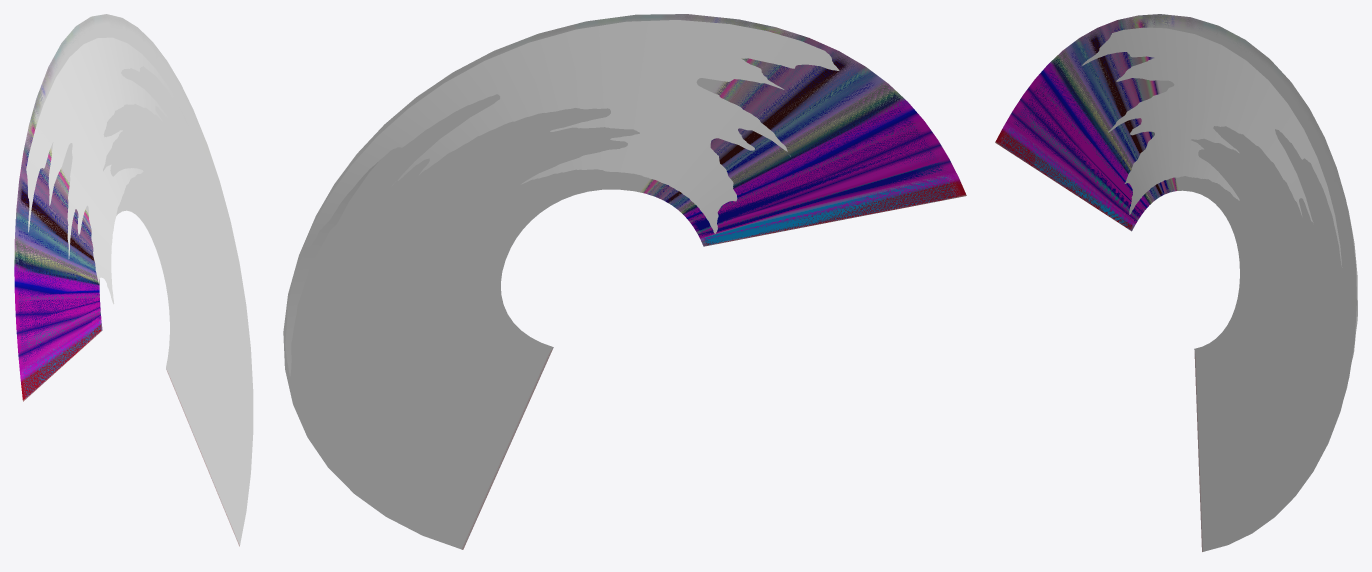
File: fx_cookie0134_front_skill001.fbx
3 views of the same model, side by side, from view 1: azimuth 30°, elevation 25°; view 2: azimuth 150°, elevation 25°; view 3: azimuth 270°, elevation 25° (orthographic). The views are drawn at different scales.
Parts seen in each view (by area): view 1: L_scratch, L_scratch2; view 2: L_scratch, L_scratch2; view 3: L_scratch, L_scratch2.
Part boxes in pixels (left/top/right/bottom): L_scratch: left=14, top=14, right=253, bottom=546; L_scratch2: left=26, top=37, right=189, bottom=304; L_scratch: left=283, top=14, right=966, bottom=549; L_scratch2: left=285, top=20, right=839, bottom=376; L_scratch: left=995, top=14, right=1356, bottom=551; L_scratch2: left=1082, top=27, right=1357, bottom=395.
Bounding box in the file's own units: 424 × 526 × 373.
